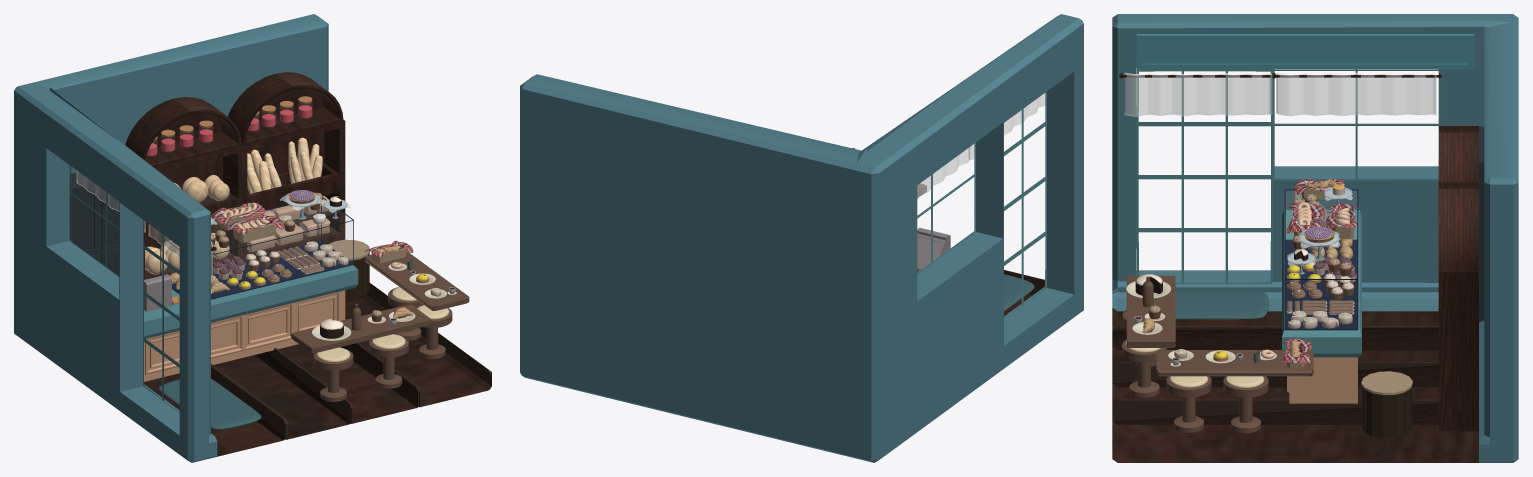
File: bakery.glb
The picture shows the model from 3 angles, left to right: view 1: azimuth 30°, elevation 25°; view 2: azimuth 150°, elevation 25°; view 3: azimuth 270°, elevation 25°; orthographic projection. The views are drawn at different scales.
Visible parts, largest first — view 1: Cube_0, Cube.033_145, Cube.006_9, Cylinder.002_10, Cube.001_3, Cube.002_4, Cube.026_63, Cube.032_142, Sphere.008_43, Cube.003_5, Cube.030_140, Cylinder.008_82 (+16 smaller); view 2: Cube_0, Cube.021_57, Cube.020_56, Plane.033_61, Cube.023_59, Cube.030_140, Plane.035_62; view 3: Cube_0, Cube.033_145, Cube.022_58, Plane.033_61, Cube.006_9, Plane.035_62, Cylinder.002_10, Cube.026_63, Cube.021_57, Cube.002_4, Cube.001_3, Cube.030_140 (+21 smaller).
Part boxes in pixels (x1=…): Cube_0: x1=14, y1=14, x2=328, y2=462; Cube.033_145: x1=144, y1=283, x2=491, y2=456; Cube.006_9: x1=144, y1=119, x2=345, y2=279; Cylinder.002_10: x1=125, y1=72, x2=343, y2=167; Cube.001_3: x1=144, y1=290, x2=345, y2=381; Cube.002_4: x1=144, y1=265, x2=358, y2=338; Cube.026_63: x1=291, y1=251, x2=469, y2=353; Cube.032_142: x1=70, y1=172, x2=119, y2=274; Sphere.008_43: x1=247, y1=137, x2=322, y2=193; Cube.003_5: x1=160, y1=198, x2=353, y2=299; Cube.030_140: x1=158, y1=378, x2=261, y2=429; Cylinder.008_82: x1=316, y1=287, x2=449, y2=361; Cube_0: x1=520, y1=14, x2=1083, y2=462; Cube.021_57: x1=975, y1=91, x2=1046, y2=318; Cube.020_56: x1=917, y1=227, x2=950, y2=272; Plane.033_61: x1=917, y1=147, x2=969, y2=199; Cube.023_59: x1=917, y1=143, x2=975, y2=274; Cube.030_140: x1=1004, y1=274, x2=1034, y2=311; Plane.035_62: x1=968, y1=93, x2=1045, y2=159; Cube_0: x1=1112, y1=14, x2=1518, y2=462; Cube.033_145: x1=1112, y1=308, x2=1478, y2=462; Cube.022_58: x1=1136, y1=34, x2=1474, y2=69; Plane.033_61: x1=1276, y1=72, x2=1436, y2=116; Cube.006_9: x1=1438, y1=158, x2=1478, y2=431; Plane.035_62: x1=1123, y1=72, x2=1272, y2=116; Cylinder.002_10: x1=1439, y1=126, x2=1478, y2=270; Cube.026_63: x1=1126, y1=275, x2=1313, y2=376; Cube.021_57: x1=1136, y1=69, x2=1273, y2=283; Cube.002_4: x1=1282, y1=210, x2=1361, y2=357; Cube.001_3: x1=1287, y1=357, x2=1357, y2=403; Cube.030_140: x1=1175, y1=289, x2=1268, y2=319.
Bounding box in the file's own units: 10.56 × 8.39 × 10.72.
44 materials, 6 textured.
